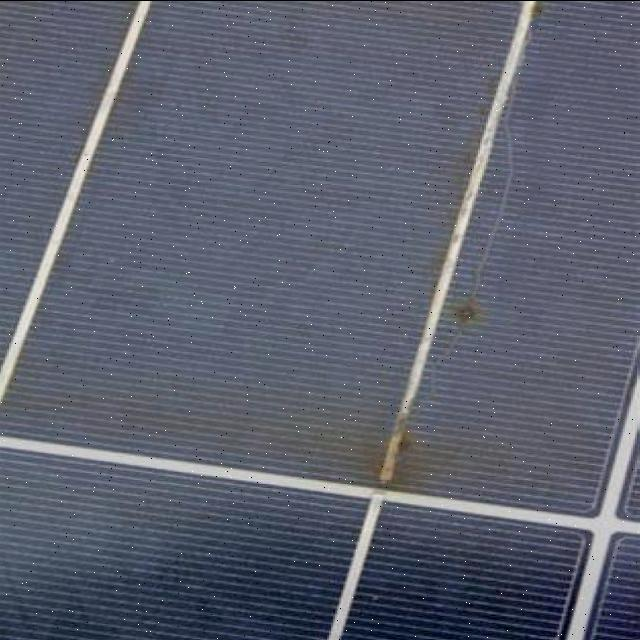Structural Damage: (470, 105, 529, 299), (356, 414, 430, 496), (415, 326, 470, 410), (442, 292, 484, 336), (524, 0, 548, 23)
